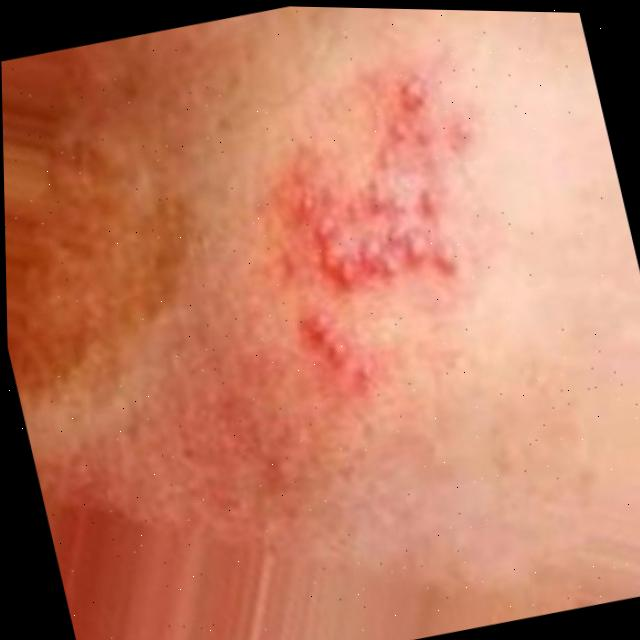Shingles: (221, 70, 504, 390)
